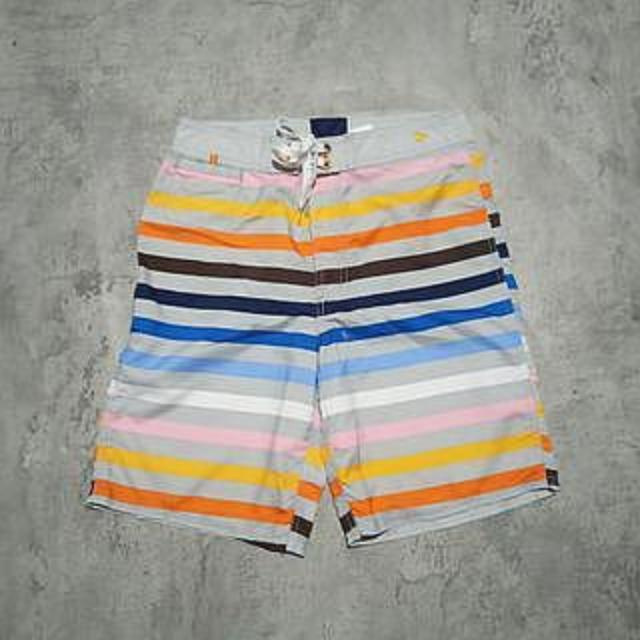SHORT: (60, 106, 580, 566)
